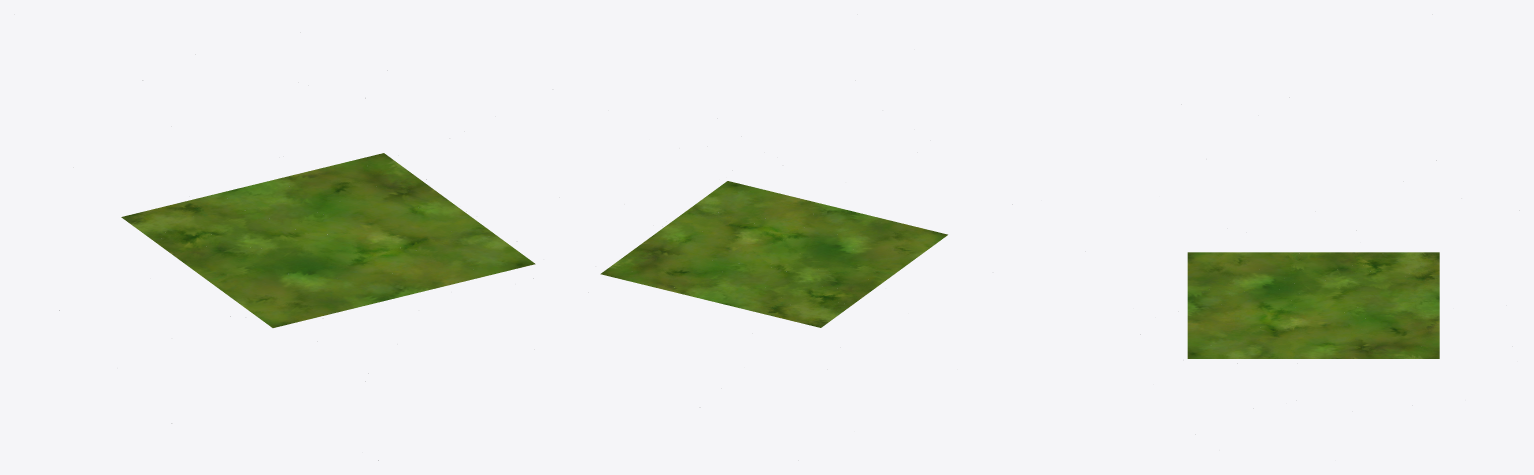
Rendered from grassground.obj.
The picture shows the model from 3 angles, left to right: view 1: azimuth 30°, elevation 25°; view 2: azimuth 150°, elevation 25°; view 3: azimuth 270°, elevation 25°; orthographic projection. The views are drawn at different scales.
Visible parts, largest first — view 1: 草地particle; view 2: 草地particle; view 3: 草地particle.
Part boxes in pixels (bbox=[...]): 草地particle: bbox=[121, 153, 535, 327]; 草地particle: bbox=[600, 181, 947, 327]; 草地particle: bbox=[1187, 252, 1439, 358].
Size of the model in its own units: 45.18 by 39.05 by 49.64.
